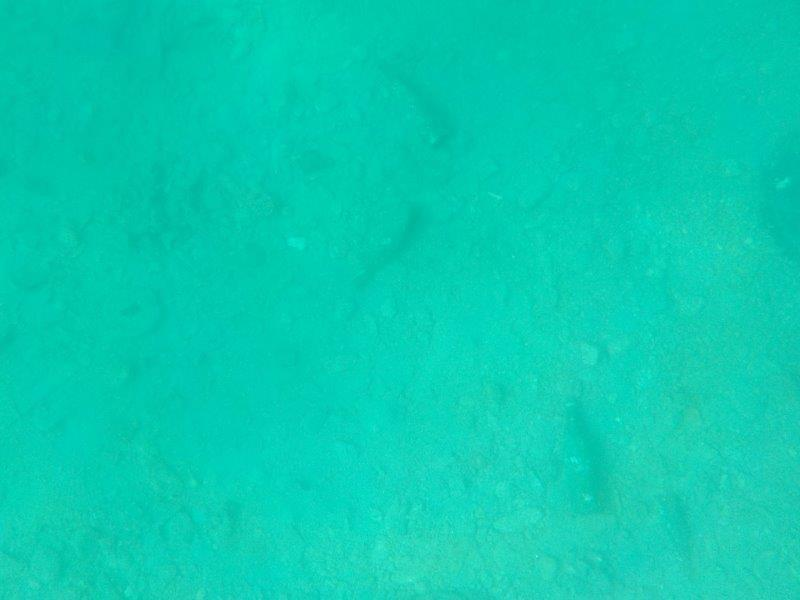bottle: (362, 56, 453, 151), (338, 190, 424, 290), (549, 388, 611, 522)
